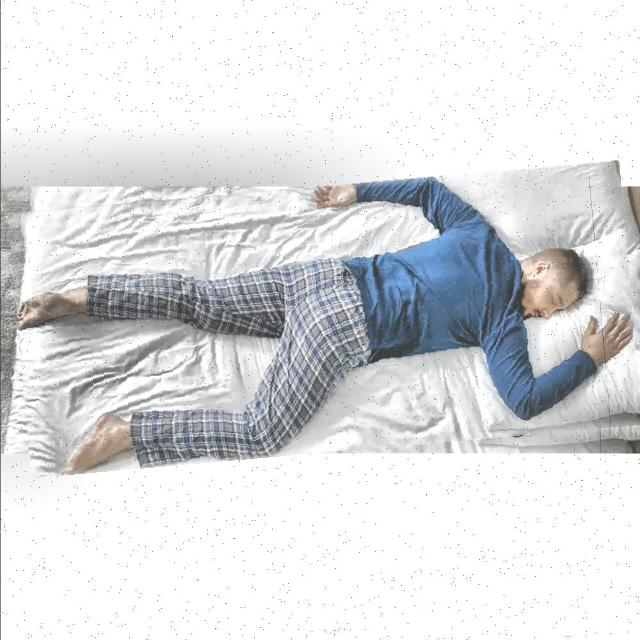Not_Supine: (16, 177, 634, 476)
